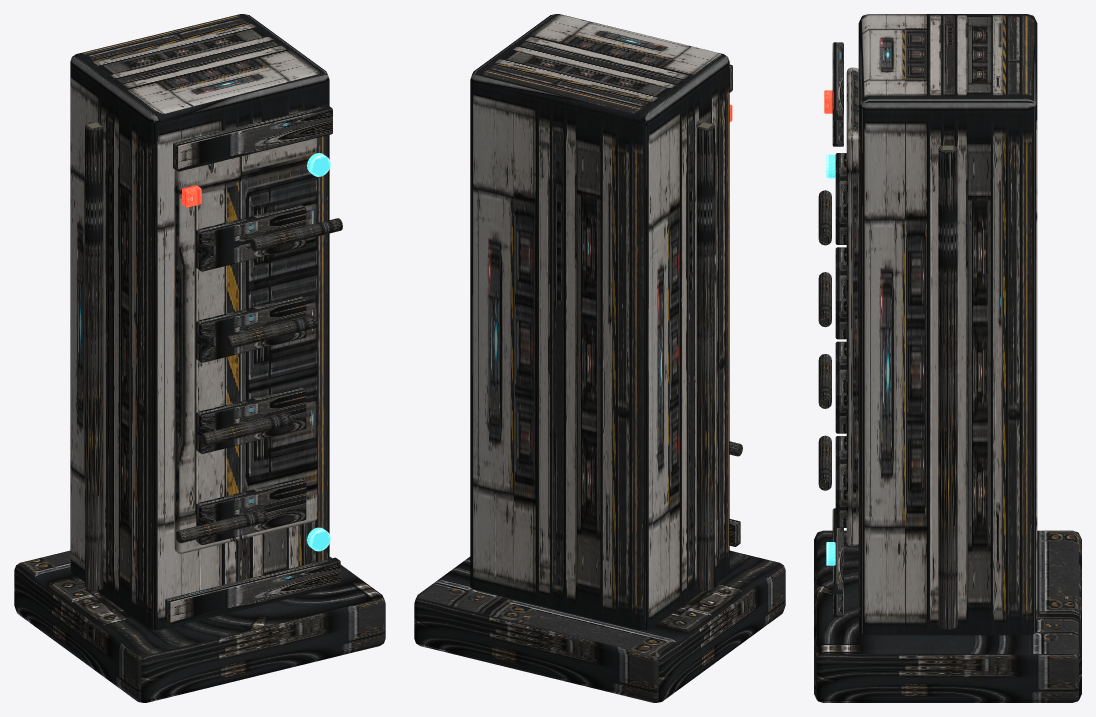
Rendered from room_l1_img2_breaker_pylon.glb.
The picture shows the model from 3 angles, left to right: view 1: azimuth 30°, elevation 25°; view 2: azimuth 150°, elevation 25°; view 3: azimuth 270°, elevation 25°; orthographic projection. The views are drawn at different scales.
Parts seen in each view (by area): view 1: tall_breaker_spine, white_service_face, octagonal_floor_plinth, side_bus_pipe, high_voltage_warning_band, base_hazard_band, breaker_slot_3, breaker_slot_0, breaker_slot_2, breaker_slot_1, breaker_pull_handle_2, breaker_pull_handle_3 (+2 smaller); view 2: tall_breaker_spine, octagonal_floor_plinth, side_bus_pipe; view 3: tall_breaker_spine, octagonal_floor_plinth, side_bus_pipe.001, white_service_face, high_voltage_warning_band, breaker_slot_1, breaker_slot_2, breaker_slot_0, breaker_slot_3, base_hazard_band, breaker_pull_handle_0, breaker_pull_handle_3 (+2 smaller).
Part boxes in pixels (x1,y1,x2,y2): tall_breaker_spine: (70, 14, 329, 630); white_service_face: (174, 138, 317, 553); octagonal_floor_plinth: (14, 550, 385, 702); side_bus_pipe: (85, 122, 103, 591); high_voltage_warning_band: (173, 105, 332, 171); base_hazard_band: (165, 557, 340, 624); breaker_slot_3: (196, 204, 306, 271); breaker_slot_0: (196, 478, 306, 544); breaker_slot_2: (196, 295, 306, 362); breaker_slot_1: (196, 387, 306, 453); breaker_pull_handle_2: (225, 315, 317, 348); breaker_pull_handle_3: (250, 218, 342, 251); tall_breaker_spine: (470, 14, 729, 630); octagonal_floor_plinth: (414, 550, 785, 702); side_bus_pipe: (696, 122, 714, 591); tall_breaker_spine: (858, 14, 1037, 635); octagonal_floor_plinth: (814, 530, 1081, 702); side_bus_pipe.001: (938, 144, 957, 629); white_service_face: (846, 67, 858, 545); high_voltage_warning_band: (832, 42, 843, 146); breaker_slot_1: (835, 341, 846, 433); breaker_slot_2: (835, 247, 846, 339); breaker_slot_0: (835, 436, 846, 527); breaker_slot_3: (835, 153, 846, 244); base_hazard_band: (832, 508, 843, 617); breaker_pull_handle_0: (818, 435, 831, 490); breaker_pull_handle_3: (818, 190, 831, 245).
Bounding box in the file's own units: 0.8 × 1.75 × 0.72.
8 materials, 8 textured.
